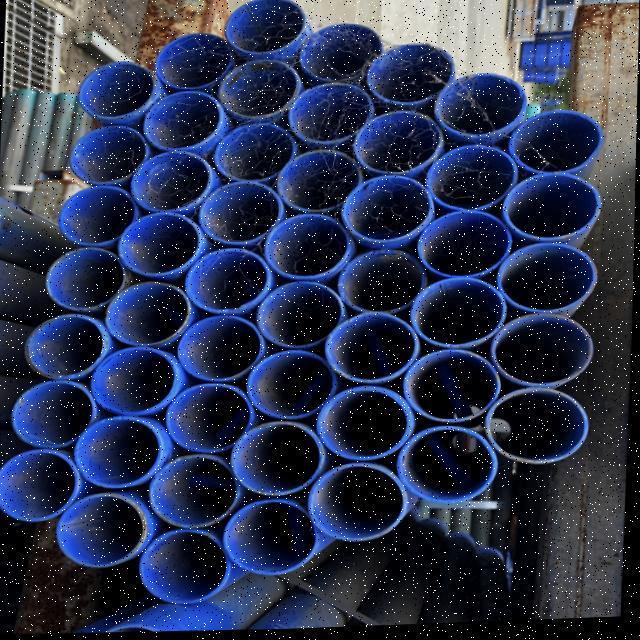pipe: (394, 425, 504, 514), (483, 388, 595, 471), (303, 460, 409, 546), (487, 313, 600, 391), (218, 496, 322, 580), (225, 418, 328, 501), (492, 242, 604, 317), (52, 488, 154, 570), (316, 384, 418, 464), (399, 348, 501, 427), (137, 526, 235, 608), (71, 409, 167, 492), (148, 450, 244, 532), (406, 275, 508, 352), (500, 172, 606, 245), (322, 309, 422, 386), (162, 378, 256, 457), (432, 70, 532, 144), (243, 346, 339, 423), (413, 211, 515, 282), (86, 342, 182, 417), (260, 210, 357, 284), (336, 173, 434, 246), (5, 376, 100, 450), (422, 140, 518, 213), (253, 279, 348, 352), (508, 108, 606, 178), (361, 41, 457, 112), (334, 246, 428, 318), (181, 242, 275, 314), (0, 444, 84, 524), (102, 277, 194, 350), (174, 312, 266, 384), (114, 208, 204, 280), (0, 194, 79, 276), (350, 110, 444, 178), (193, 178, 283, 248), (274, 146, 364, 216), (283, 80, 372, 150), (126, 146, 217, 214), (293, 18, 385, 85), (42, 242, 130, 312), (22, 312, 108, 379), (138, 89, 228, 153), (219, 0, 313, 61), (74, 56, 160, 122), (54, 180, 138, 246), (66, 118, 150, 184), (210, 122, 298, 184), (151, 28, 237, 90), (216, 60, 302, 121)
